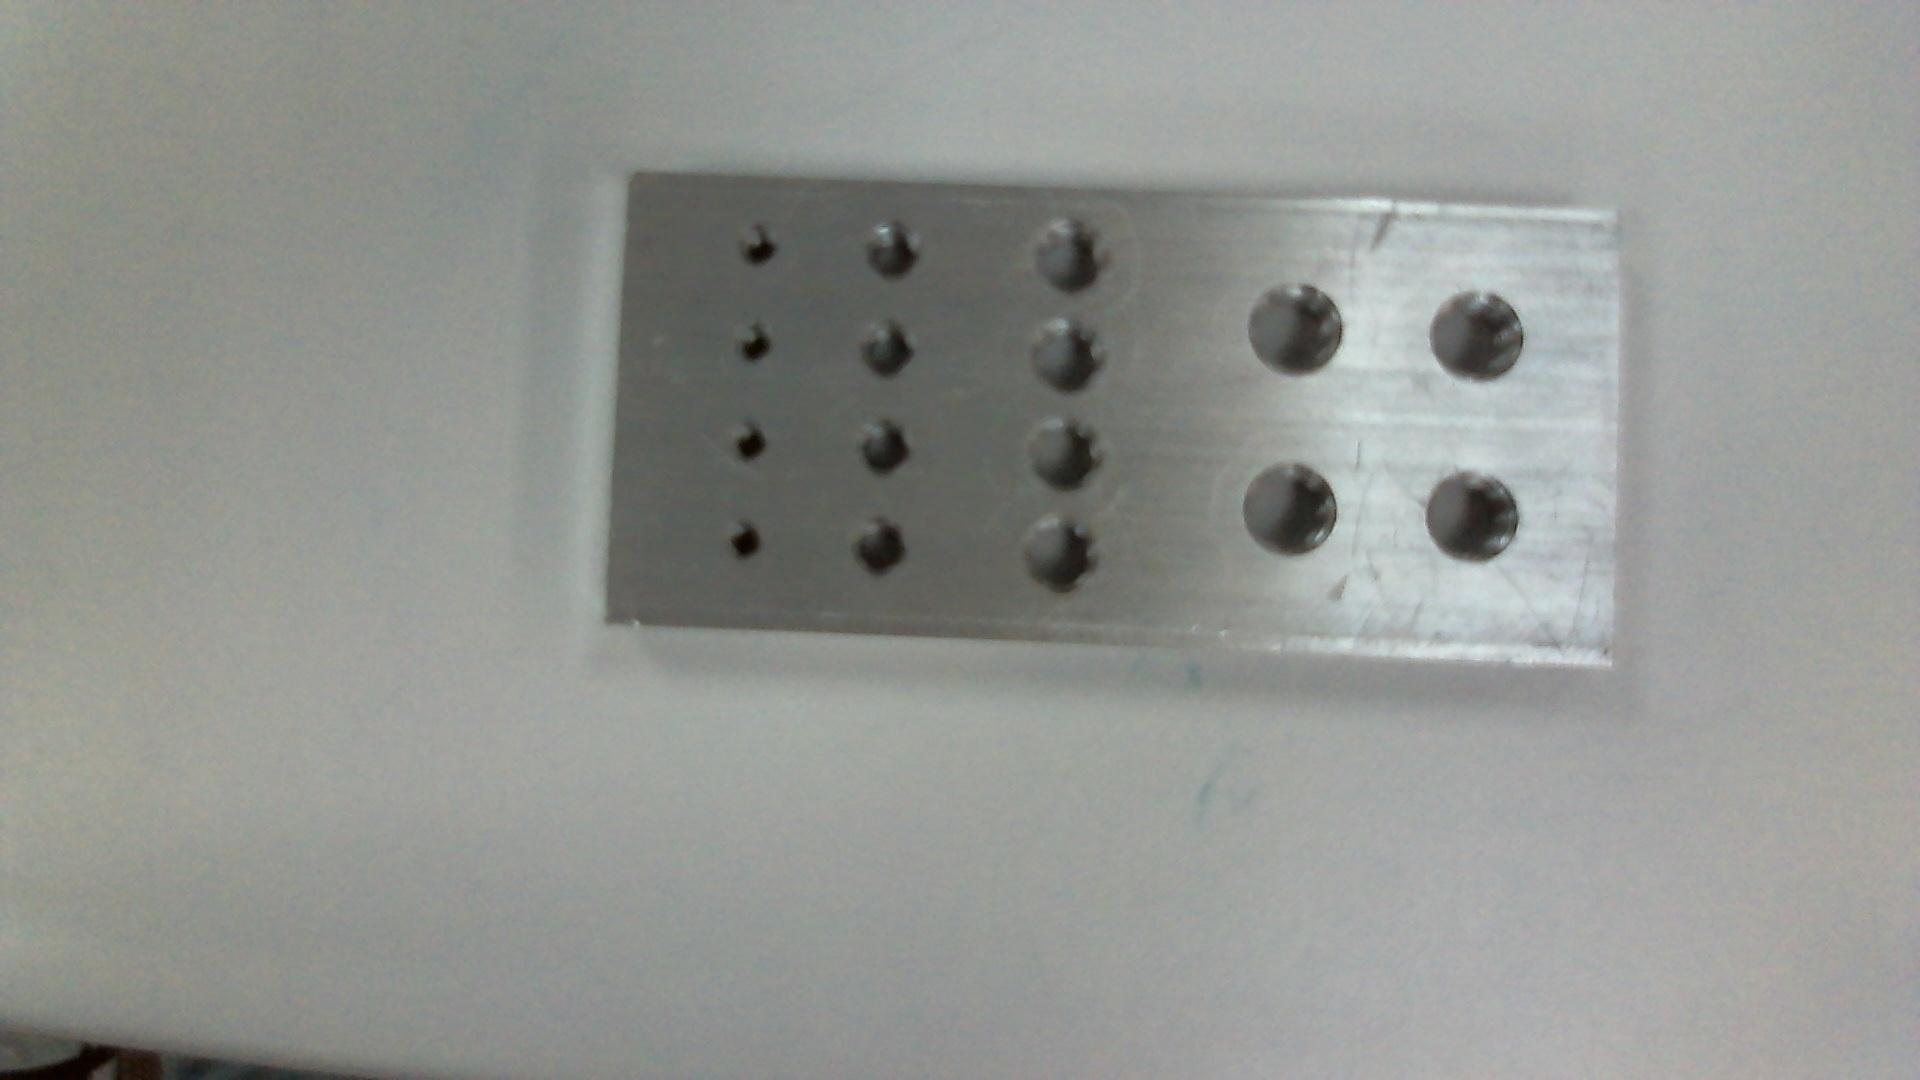hole: (1237, 270, 1356, 382), (1420, 460, 1528, 570), (1241, 459, 1345, 559), (1425, 287, 1536, 380), (1021, 520, 1117, 600), (1033, 218, 1118, 301), (1027, 411, 1110, 497), (1026, 318, 1116, 396), (856, 310, 923, 386), (851, 415, 920, 487), (855, 517, 920, 592), (861, 222, 923, 291), (723, 314, 789, 372), (731, 225, 786, 282), (717, 516, 774, 562), (731, 423, 774, 472)
